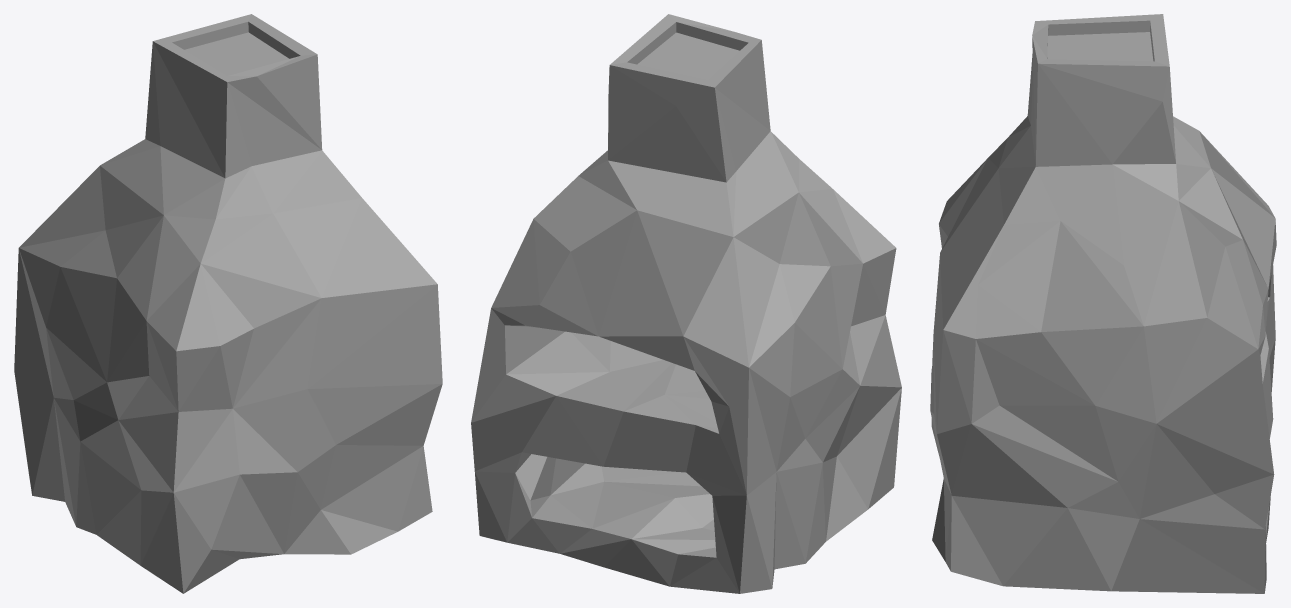
The model's file is Bake.fbx.
3 renders of one model, left to right at view 1: azimuth 30°, elevation 25°; view 2: azimuth 150°, elevation 25°; view 3: azimuth 270°, elevation 25°, orthographic. The views are drawn at different scales.
Visible parts, largest first — view 1: Bake; view 2: Bake; view 3: Bake.
Part boxes in pixels (x1,y1,x2,y2): Bake: (14, 14, 442, 593); Bake: (471, 14, 901, 593); Bake: (930, 14, 1276, 593).
Bounding box in the file's own units: 1.23 × 1.94 × 1.23.
